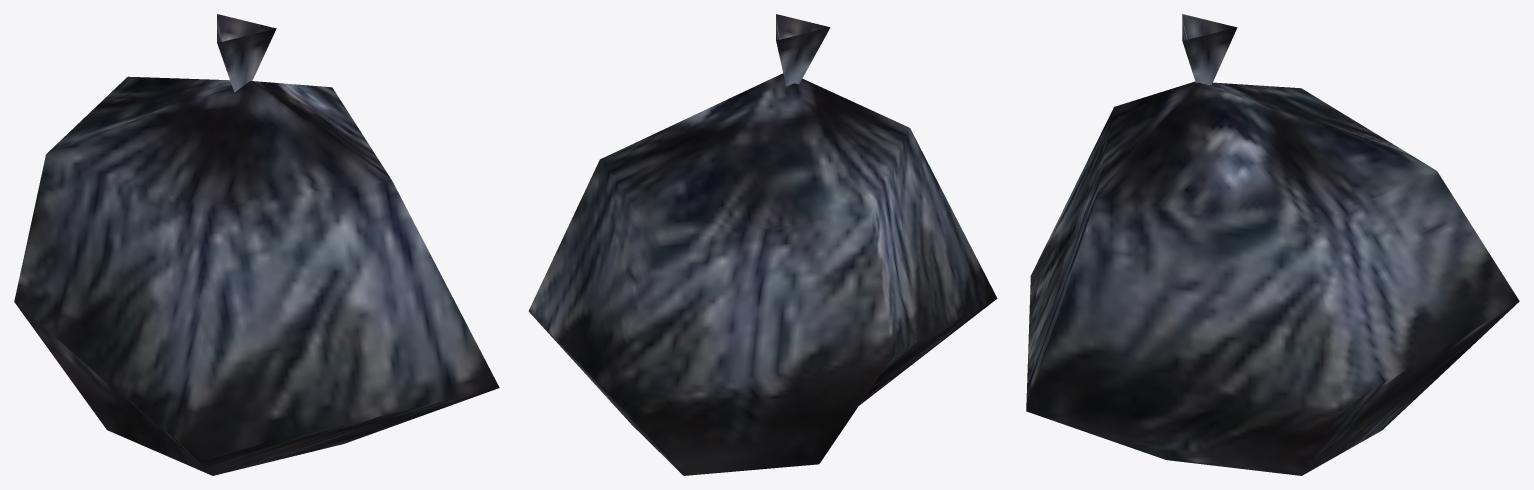
The model's file is garb_01.glb.
3 views of the same model, side by side, from view 1: azimuth 30°, elevation 25°; view 2: azimuth 150°, elevation 25°; view 3: azimuth 270°, elevation 25° (orthographic). The views are drawn at different scales.
Parts seen in each view (by area): view 1: Garbage_bag.-col; view 2: Garbage_bag.-col; view 3: Garbage_bag.-col.
Part boxes in pixels (left/top/right/bottom): Garbage_bag.-col: left=14, top=14, right=499, bottom=475; Garbage_bag.-col: left=528, top=14, right=997, bottom=475; Garbage_bag.-col: left=1026, top=14, right=1519, bottom=475.
Size of the model in its own units: 0.7511 by 0.8048 by 0.9162.
Materials: 1 (1 with a texture image).
